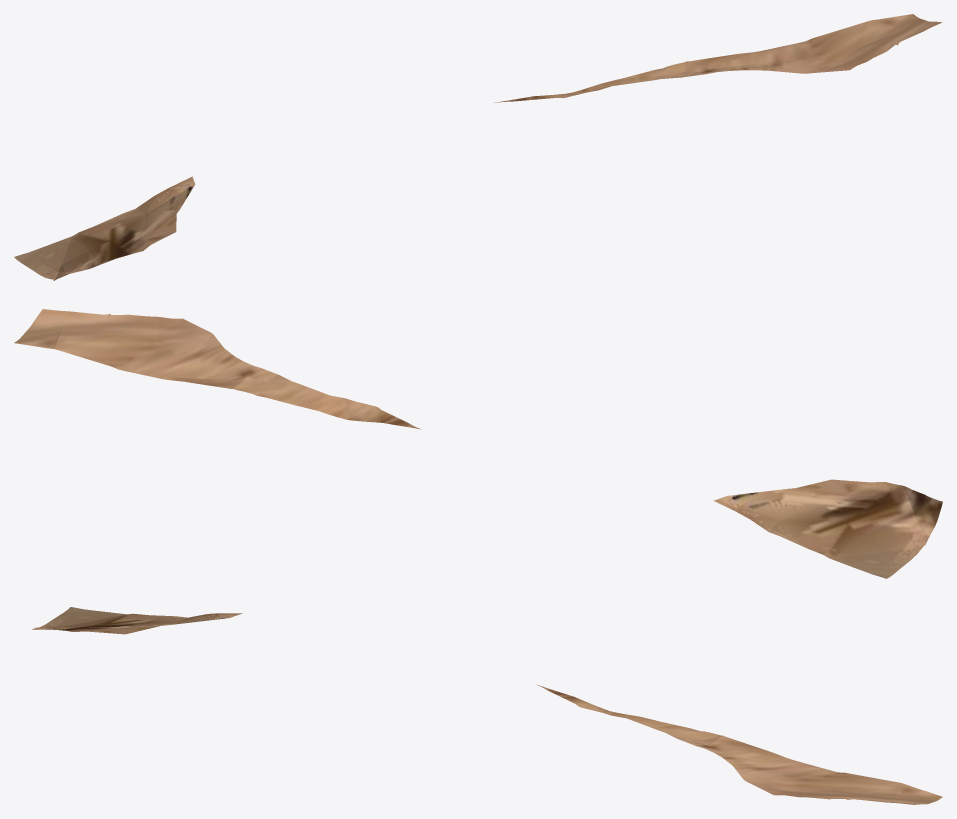
3 renders of one model, top to bottom at view 1: azimuth 30°, elevation 25°; view 2: azimuth 150°, elevation 25°; view 3: azimuth 330°, elevation 25°, orthographic. The views are drawn at different scales.
Size of the model in its own units: 2.09 by 0.0839 by 0.2606.
1 material, 1 textured.
